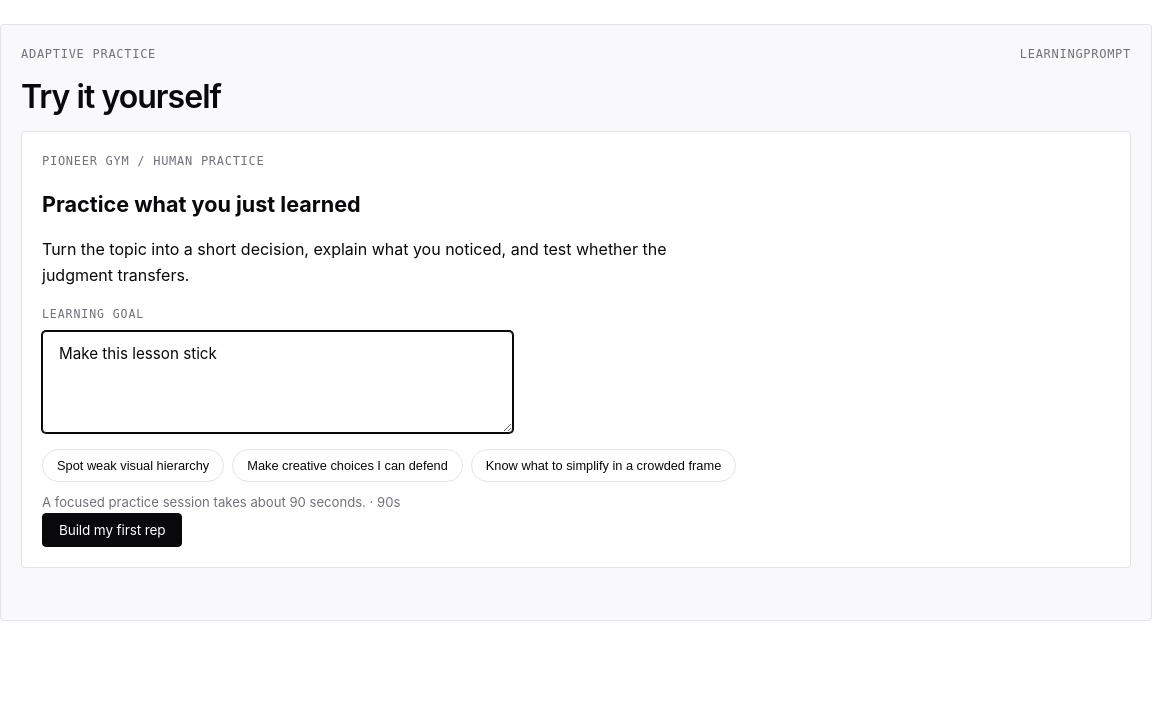
Test: NovelGymPanel › renders the canonical TargetedRetryGym command locally
Expected: the text box labelled "Learning goal" holds "Make this lesson stick", [42,331,513,433]
Click the button "Build my first rep" at (112, 530), box [42,513,182,547]
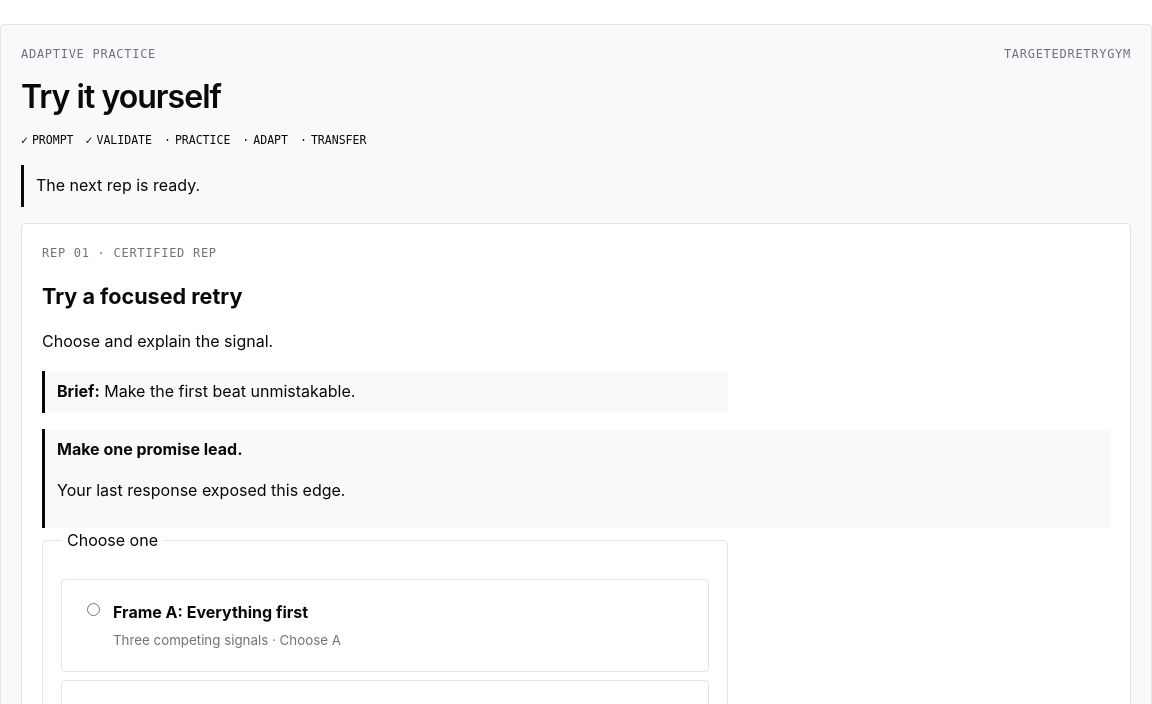
Expected: the text with test id "gym-command-name" reads "TargetedRetryGym", [1004,47,1131,61]
